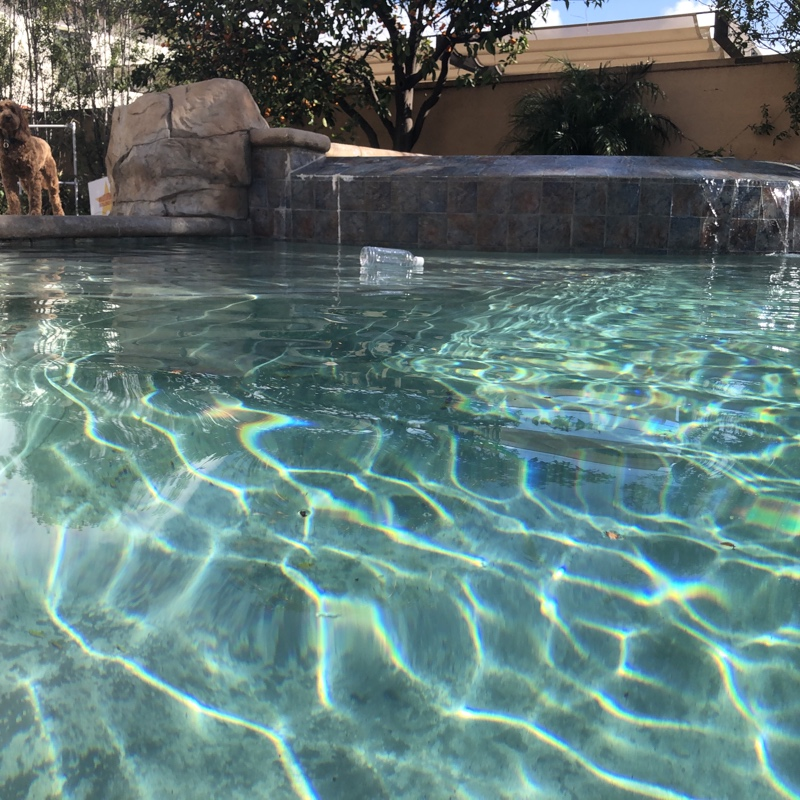Plastic Bottle: (355, 239, 428, 275)
